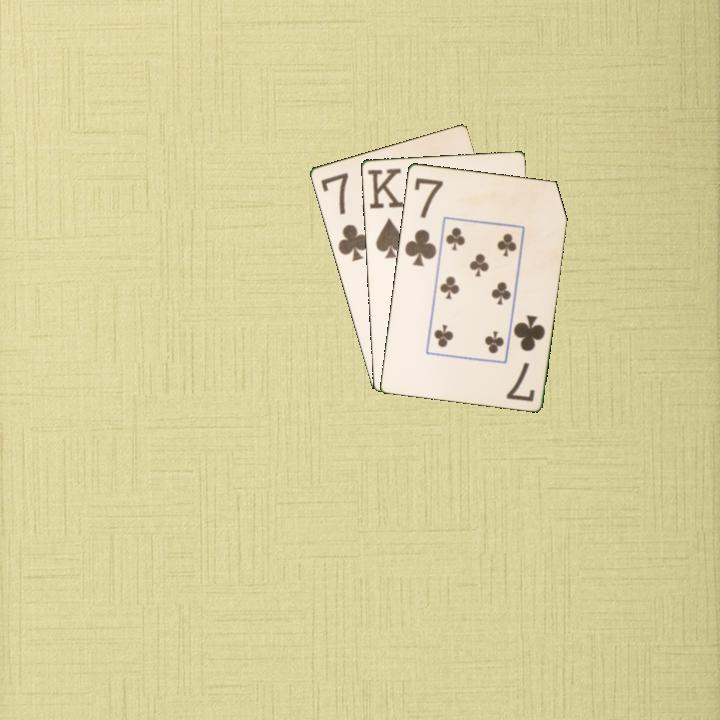7c: (317, 169, 372, 264), (502, 311, 548, 404), (401, 174, 446, 269)
Ks: (364, 164, 407, 261)
